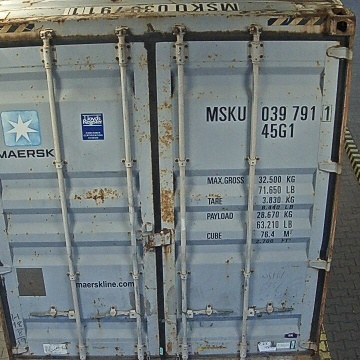serial_id: (206, 105, 332, 121)
